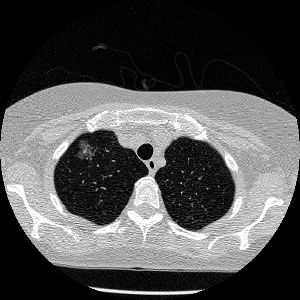PN: (77, 142, 93, 158)
